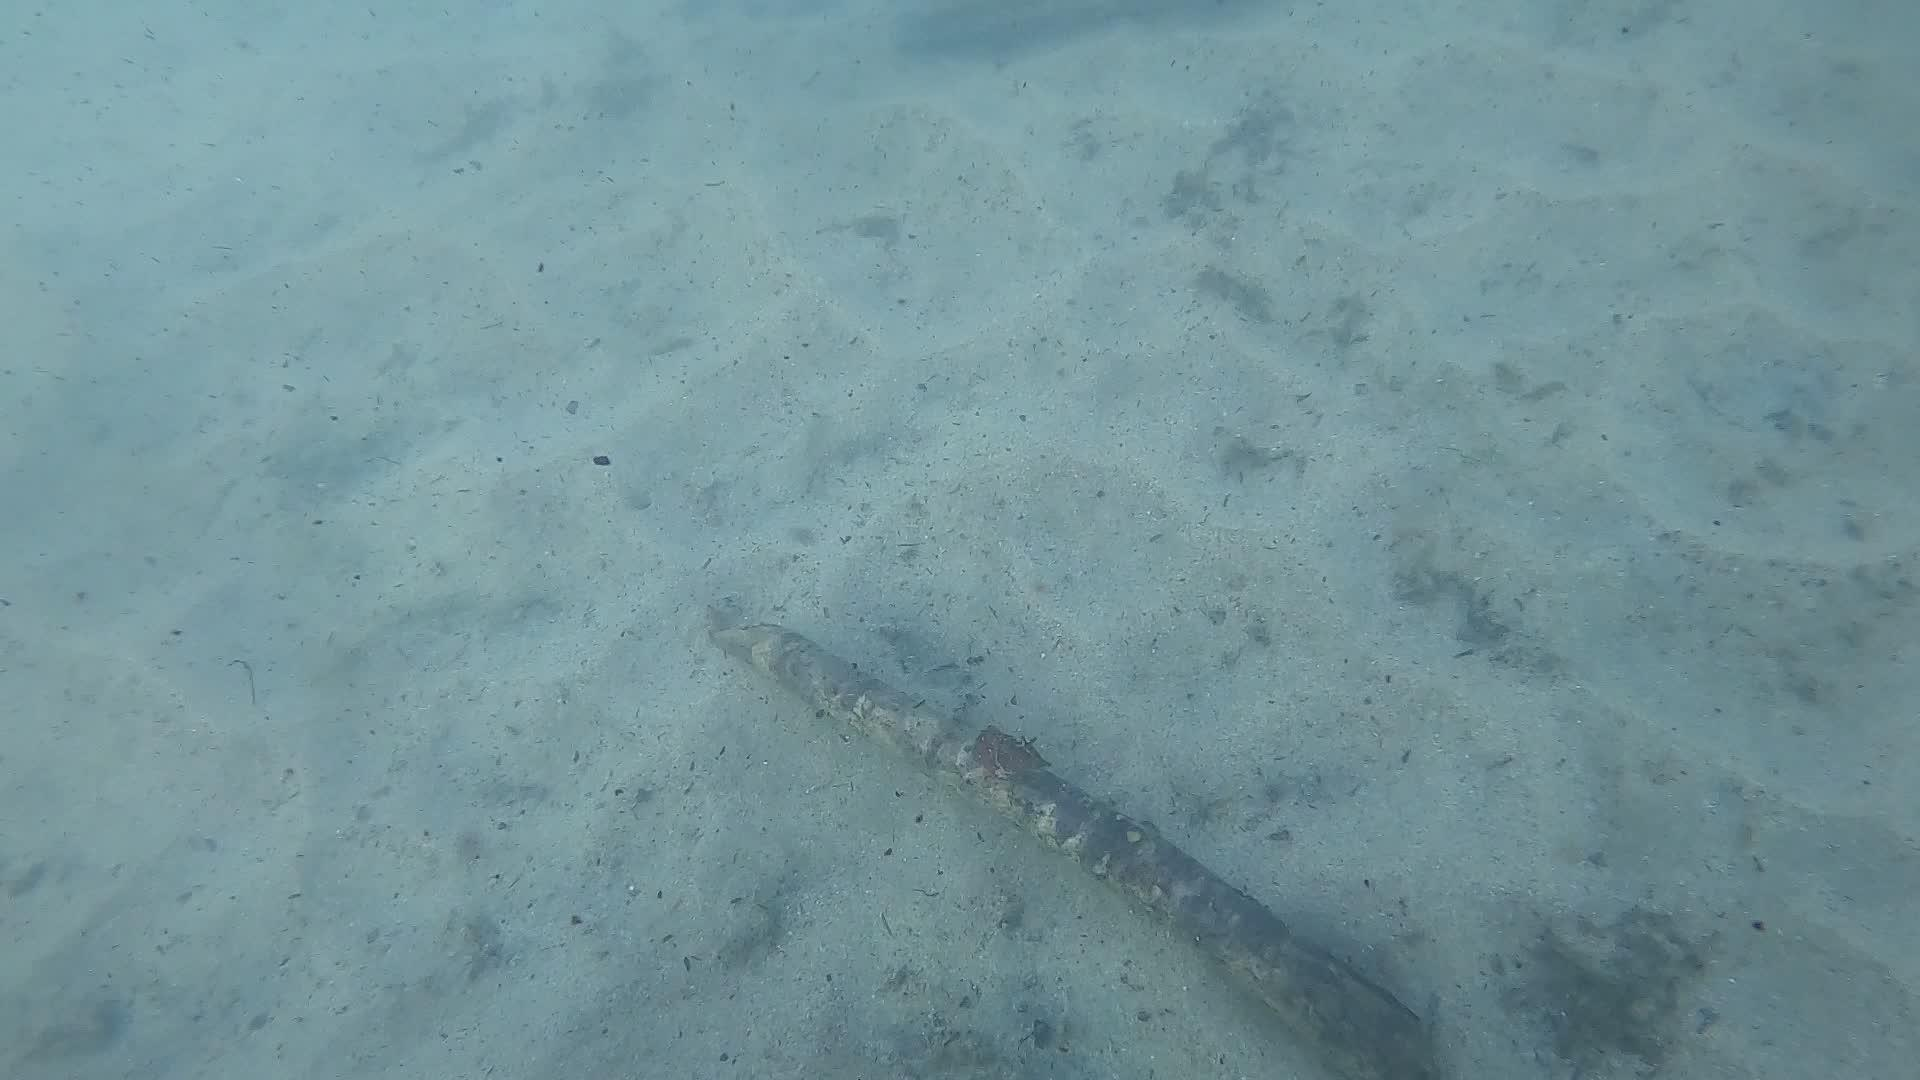wood: (707, 620, 1436, 1080)
